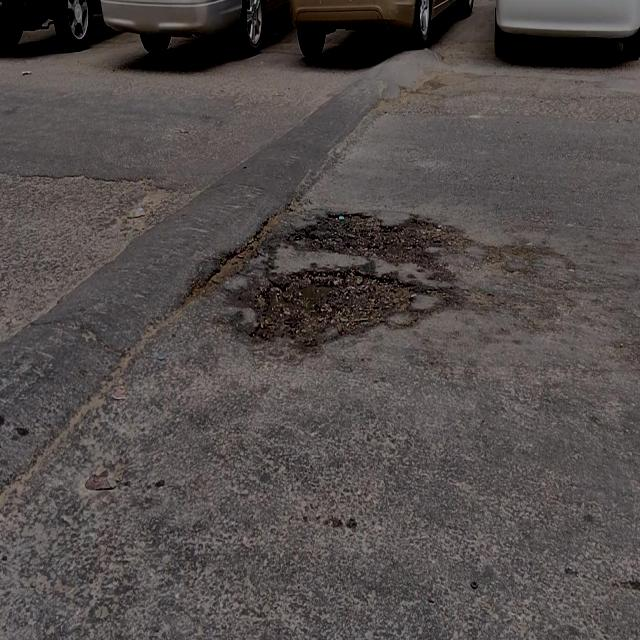Potholes: (249, 267, 417, 354), (284, 210, 452, 270)
